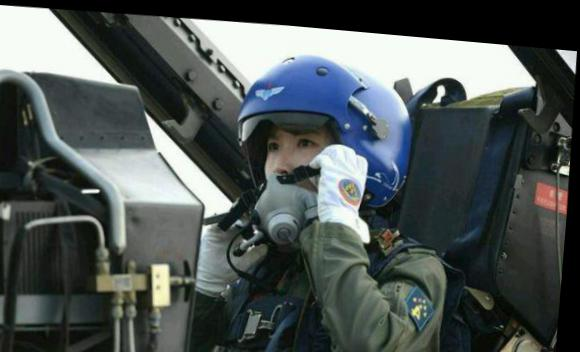WRONG: (255, 110, 344, 198)
